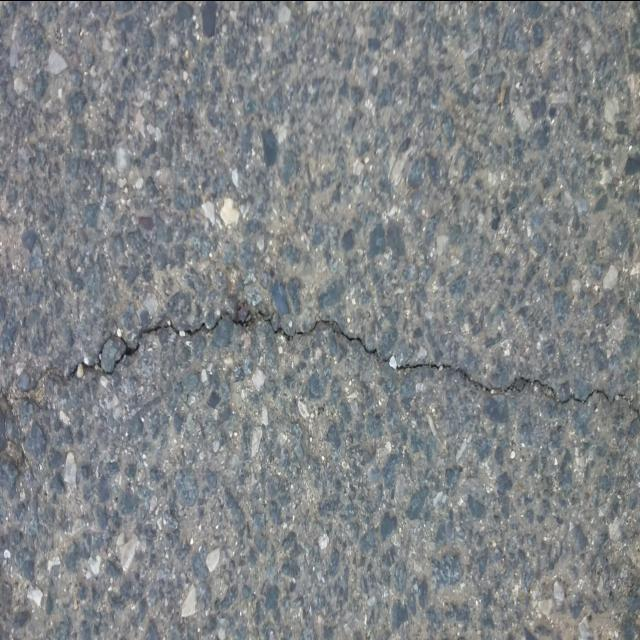Crack: (0, 299, 640, 471)
